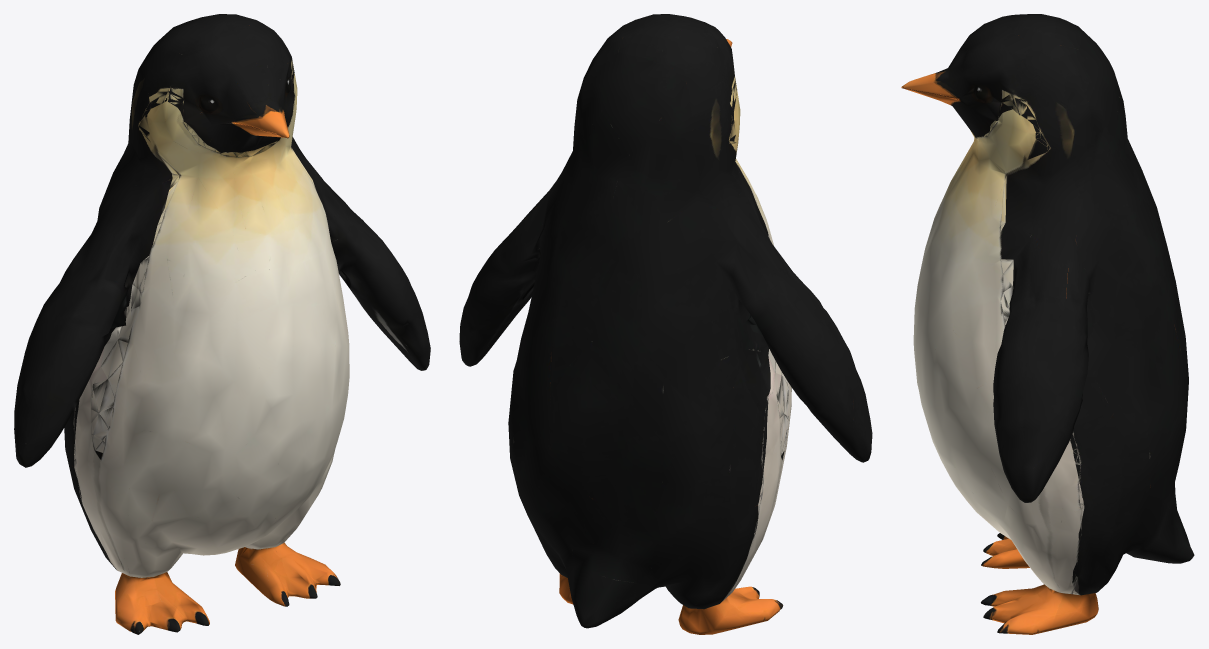
File: penguin-arms-pit.glb
3 views of the same model, side by side, from view 1: azimuth 30°, elevation 25°; view 2: azimuth 150°, elevation 25°; view 3: azimuth 270°, elevation 25° (orthographic). The views are drawn at different scales.
Parts seen in each view (by area): view 1: penguin_pit; view 2: penguin_pit; view 3: penguin_pit.
Boxes of the visible parts, x1,y1,x2,y2 form: penguin_pit: (14, 14, 430, 634); penguin_pit: (459, 14, 872, 634); penguin_pit: (901, 14, 1194, 634).
Size of the model in its own units: 1.41 by 1.9 by 0.8937.
Materials: 1 (1 with a texture image).
